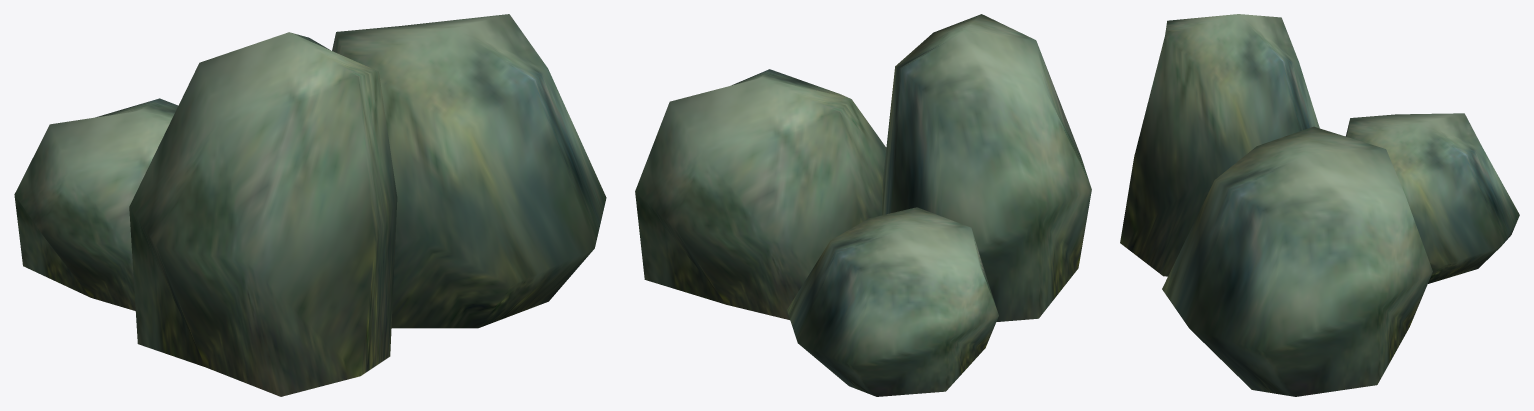
Rendered from a_SWFstone02.glb.
The picture shows the model from 3 angles, left to right: view 1: azimuth 30°, elevation 25°; view 2: azimuth 150°, elevation 25°; view 3: azimuth 270°, elevation 25°; orthographic projection. The views are drawn at different scales.
Visible parts, largest first — view 1: a_SWFstone02; view 2: a_SWFstone02; view 3: a_SWFstone02.
Boxes of the visible parts, bbox=[...] form: a_SWFstone02: bbox=[14, 14, 606, 396]; a_SWFstone02: bbox=[635, 14, 1091, 396]; a_SWFstone02: bbox=[1120, 14, 1519, 396].
Size of the model in its own units: 1.18 by 0.7964 by 1.06.
Materials: 1 (1 with a texture image).
